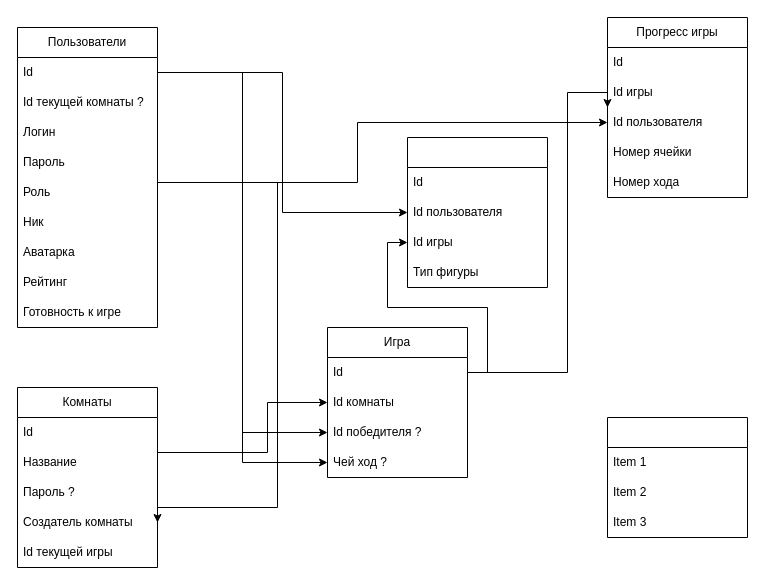
The diagram is 765 pixels wide and 585 high, and some of its shapes have lost their labels. Each missing label, with the box of its shape:
Игры пользователей: (406, 136, 548, 288)
Настройки: (606, 416, 748, 538)
